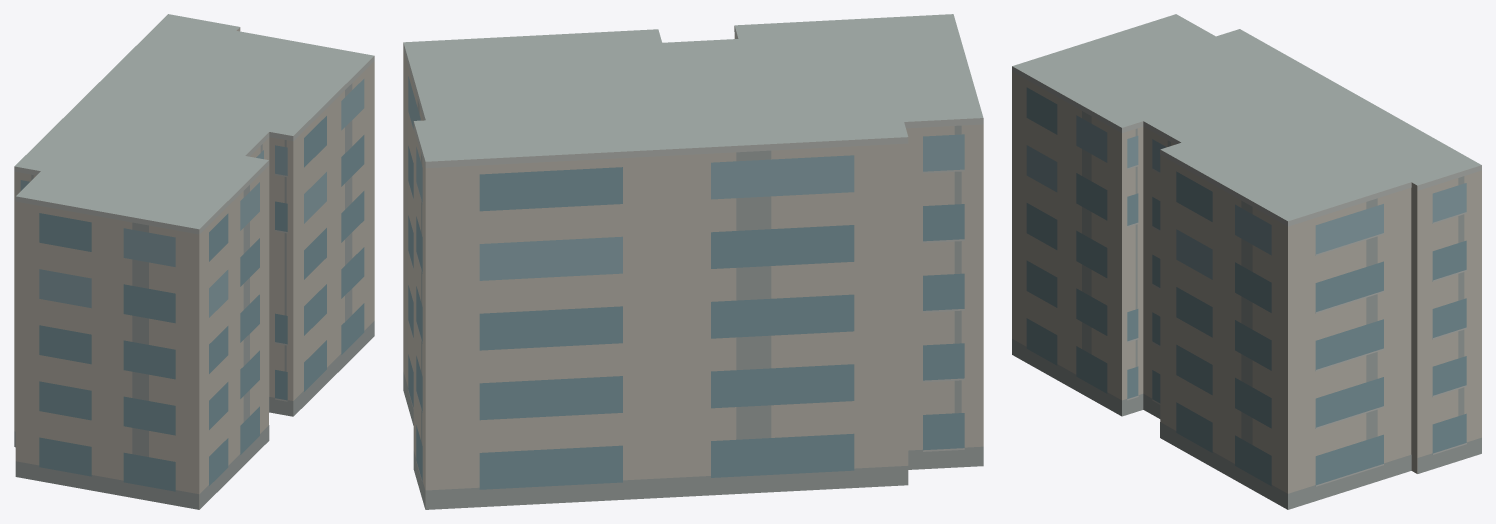
The model's file is residential-a3229bdf-8928-4ec8-b753-93b60a79713d.glb.
3 renders of one model, left to right at view 1: azimuth 30°, elevation 25°; view 2: azimuth 150°, elevation 25°; view 3: azimuth 270°, elevation 25°, orthographic. The views are drawn at different scales.
Parts seen in each view (by area): view 1: residential-a3229bdf-8928-4ec8-b753-93b60a79713d.tmp; view 2: residential-a3229bdf-8928-4ec8-b753-93b60a79713d.tmp; view 3: residential-a3229bdf-8928-4ec8-b753-93b60a79713d.tmp.
Part boxes in pixels (left/top/right/bottom): residential-a3229bdf-8928-4ec8-b753-93b60a79713d.tmp: left=14, top=14, right=374, bottom=509; residential-a3229bdf-8928-4ec8-b753-93b60a79713d.tmp: left=403, top=14, right=983, bottom=509; residential-a3229bdf-8928-4ec8-b753-93b60a79713d.tmp: left=1012, top=14, right=1481, bottom=509.
Bounding box in the file's own units: 20.18 × 13.09 × 19.32.
